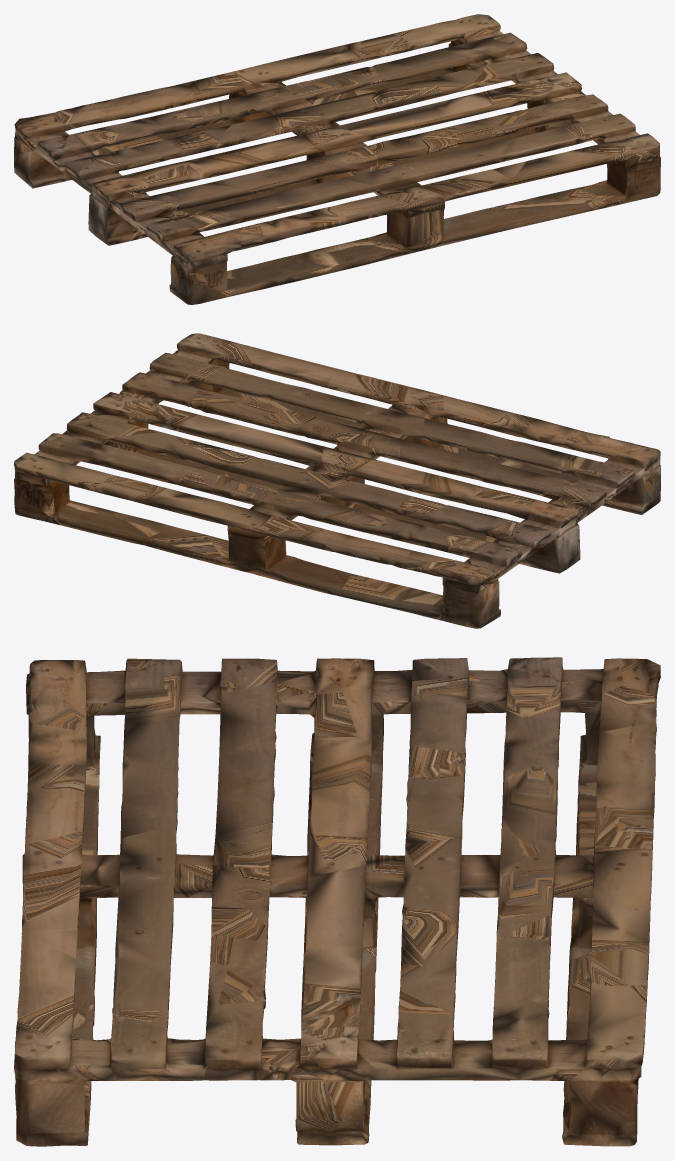
File: eur_pallet_rawscan.glb
3 renders of one model, top to bottom at view 1: azimuth 30°, elevation 25°; view 2: azimuth 150°, elevation 25°; view 3: azimuth 270°, elevation 25°, orthographic. The views are drawn at different scales.
Visible parts, largest first — view 1: Object_2; view 2: Object_2; view 3: Object_2.
Part boxes in pixels (x1,y1,x2,y2): Object_2: (14, 14, 660, 304); Object_2: (14, 333, 660, 628); Object_2: (14, 657, 660, 1146).
Size of the model in its own units: 5.48 by 0.5892 by 3.74.
1 material, 1 textured.
